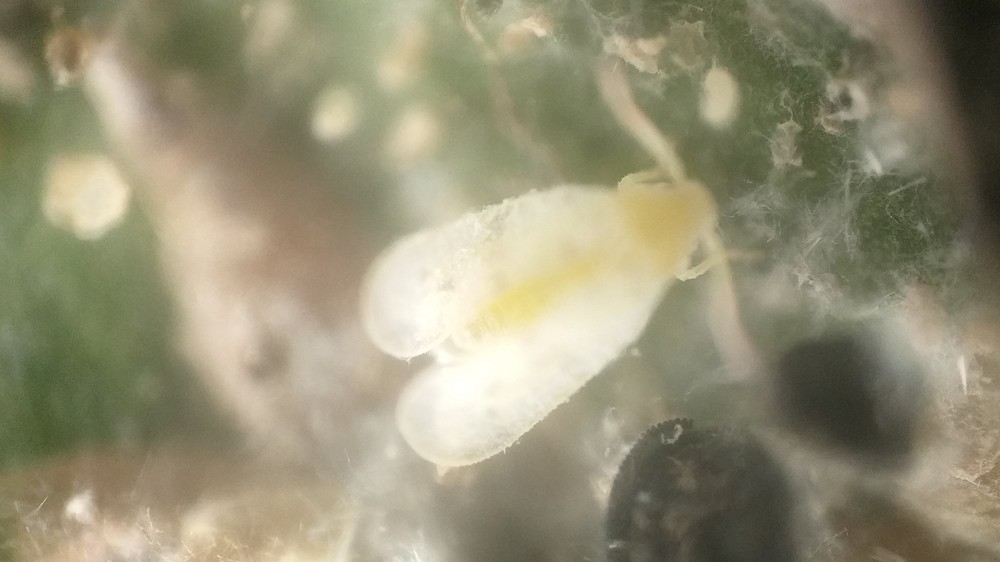Mosca Blanca: (342, 60, 793, 486)
